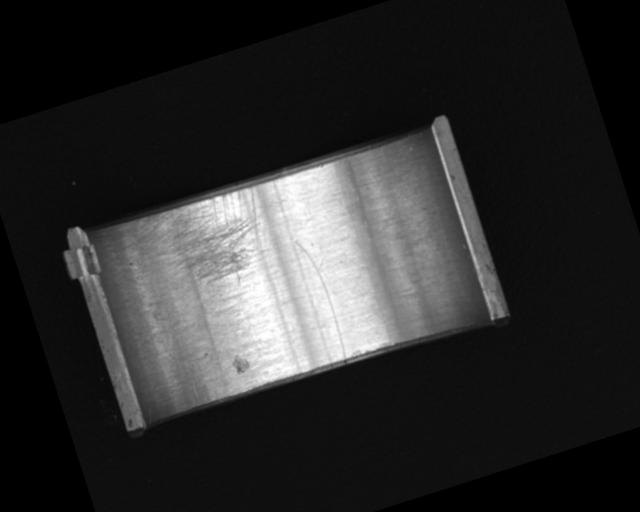bruise: (231, 352, 253, 376)
nick: (293, 234, 350, 366)
scratch: (142, 181, 284, 308)
